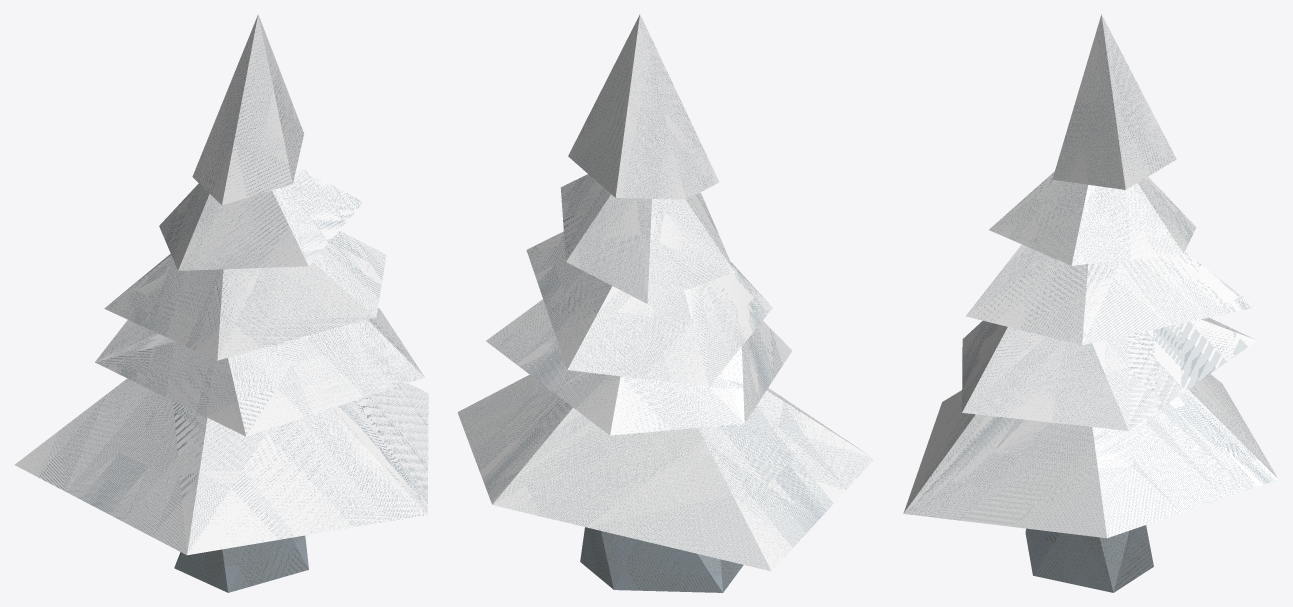
Rendered from Tree_Pine_Snow_01.fbx.
3 renders of one model, left to right at view 1: azimuth 30°, elevation 25°; view 2: azimuth 150°, elevation 25°; view 3: azimuth 270°, elevation 25°, orthographic. The views are drawn at different scales.
Parts seen in each view (by area): view 1: Model; view 2: Model; view 3: Model.
Boxes of the visible parts, bbox=[...] form: Model: bbox=[14, 14, 428, 592]; Model: bbox=[457, 14, 873, 592]; Model: bbox=[903, 14, 1278, 592].
Bounding box in the file's own units: 663 × 947 × 583.
